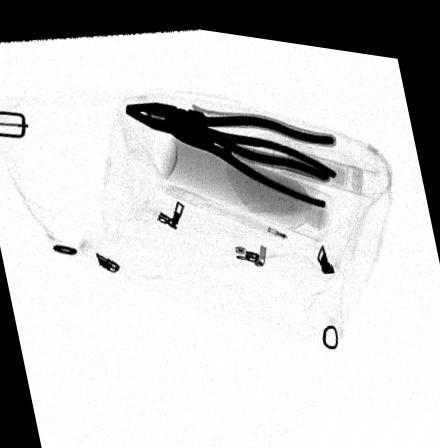Pliers: (113, 93, 342, 173), (160, 112, 340, 199)
